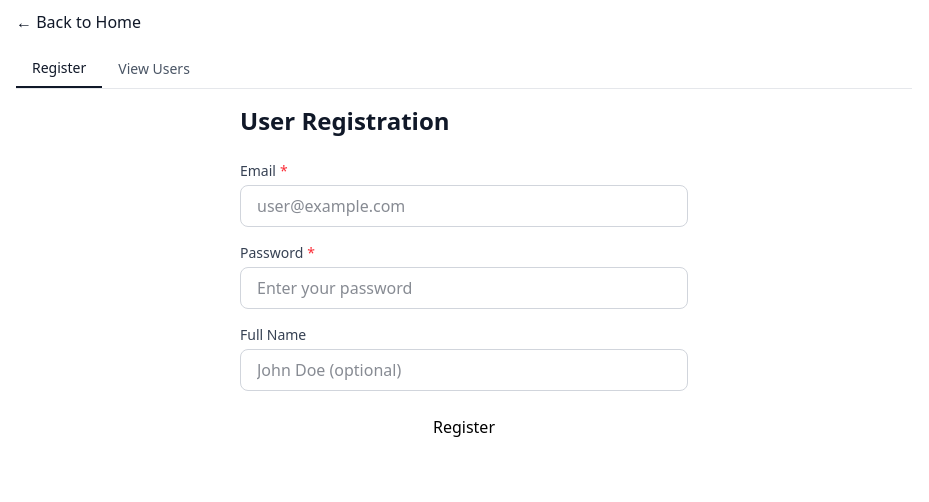
Test case: Registration Page › shows errors on invalid email
The image size is (929, 502).
Type "invalid-email" into the field labelled "Email*". click: (464, 206)
box: [240,185,688,227]
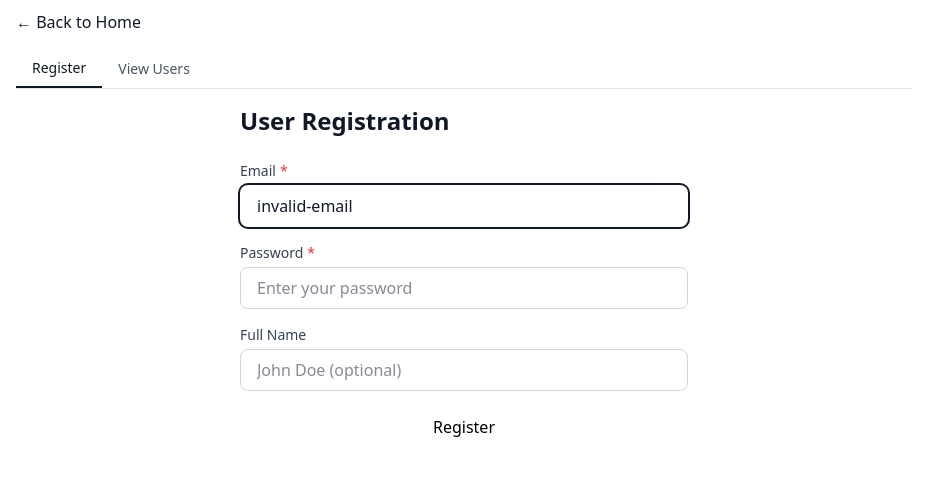
Submit the form labelled "Email* Password* Full Name Register", box [240,161,688,447]
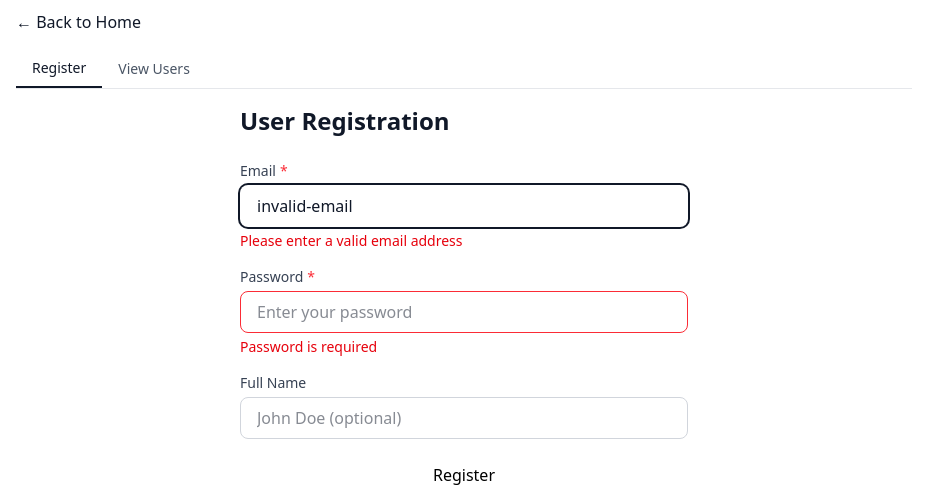
Now the text "Please enter a valid email address" is shown, box [240,231,462,250]
